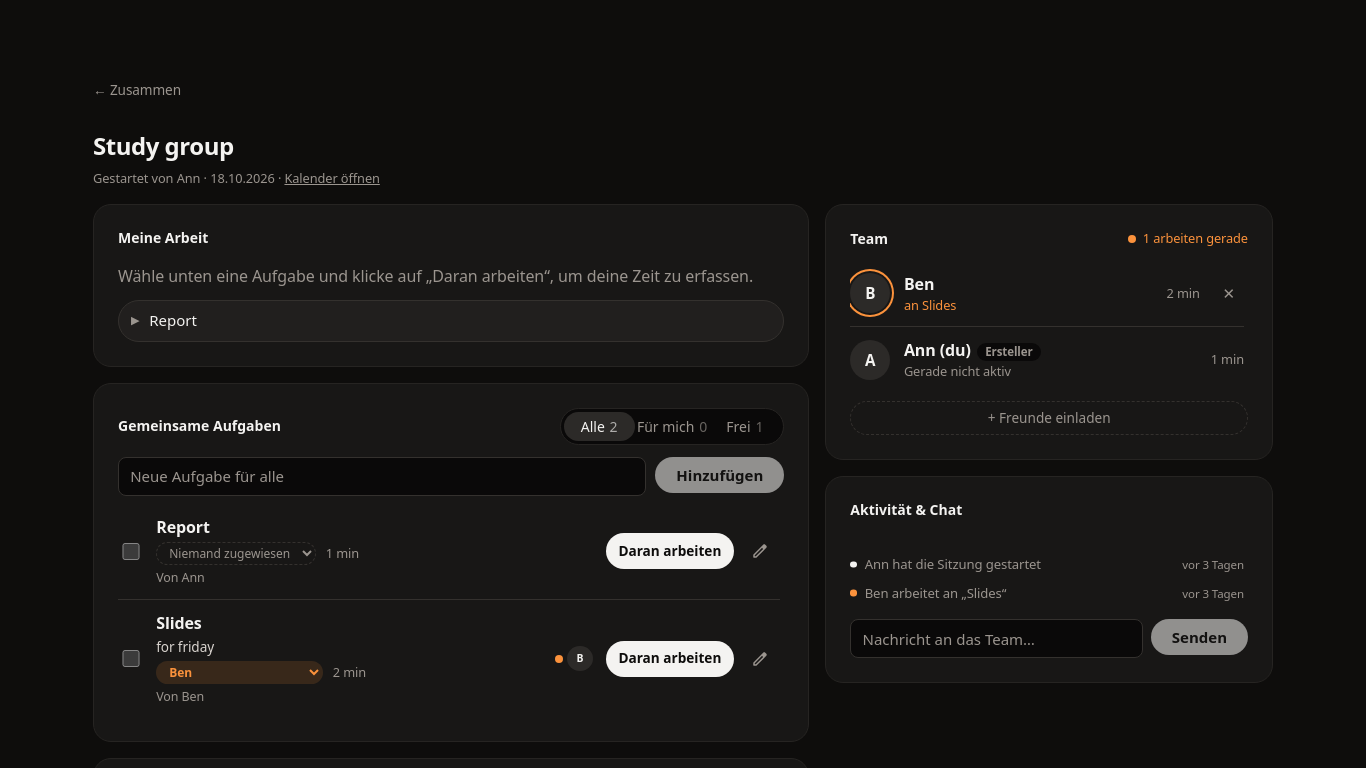
Test: Shared session page › edits a task's details; the day and everything else is optional, personal options are left out
The width and height of the screenshot is (1366, 768).
Click the button named "Bearbeiten: Report".
click(760, 551)  # box left=740, top=538, right=780, bottom=564
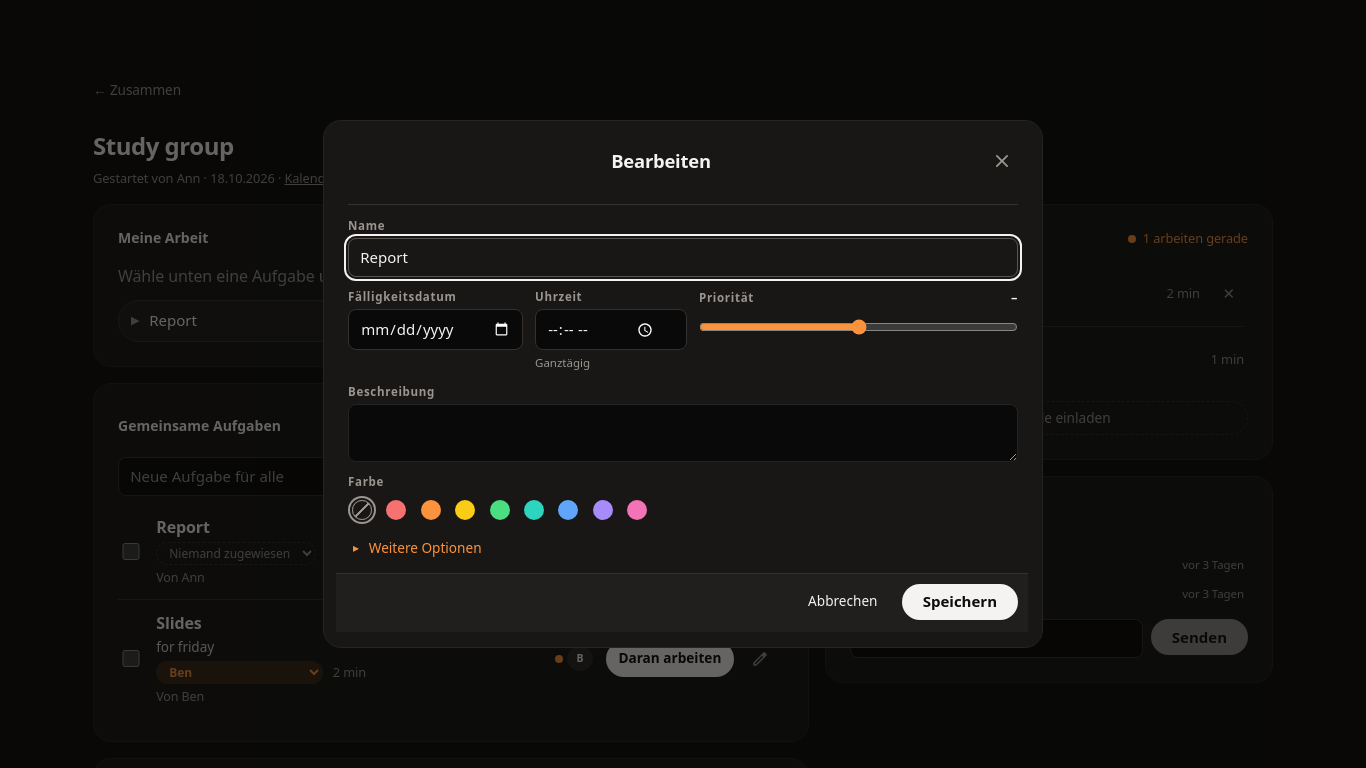
Note: no day is fine for a session task
Click the button "Speichern".
click(960, 602)  # box left=902, top=584, right=1018, bottom=620
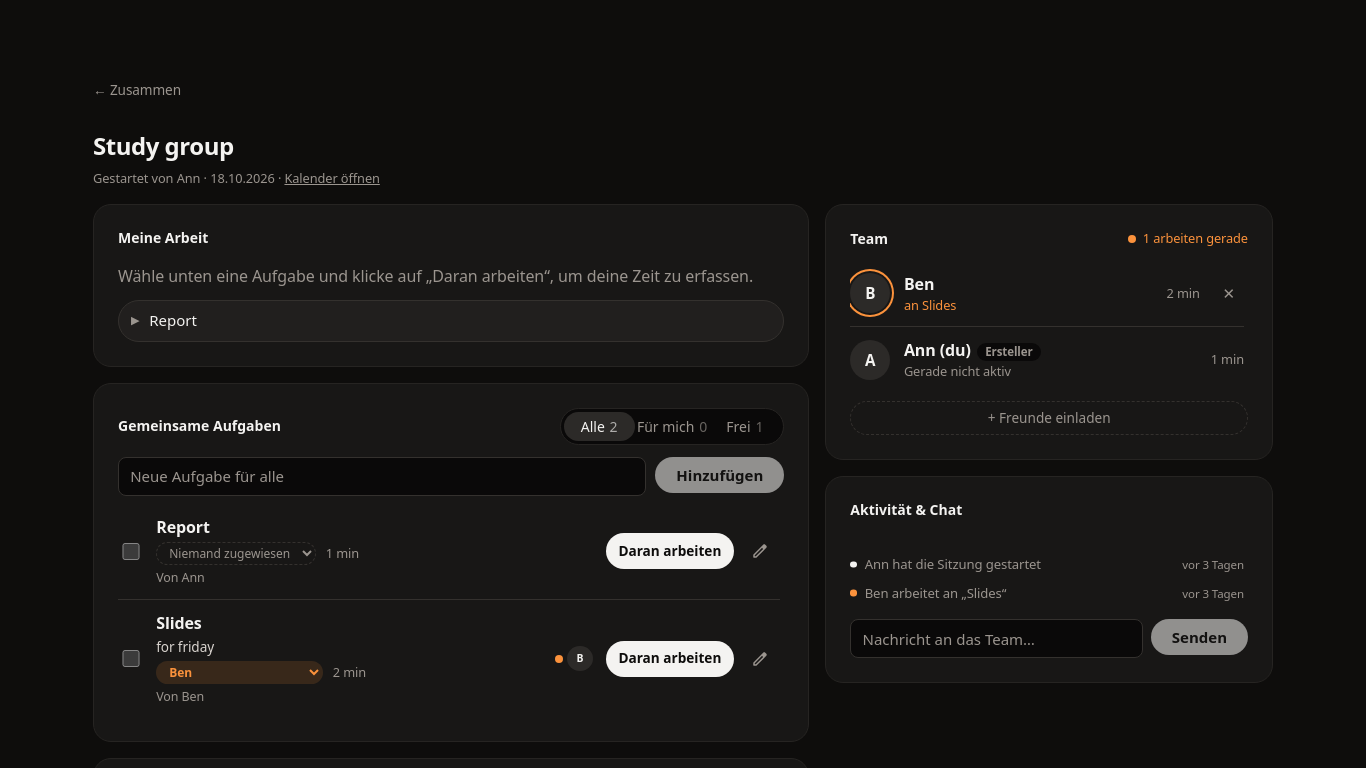
Check: the dialog is gone
Click the button named "Bearbeiten: Report".
click(760, 551)  # box left=740, top=538, right=780, bottom=564
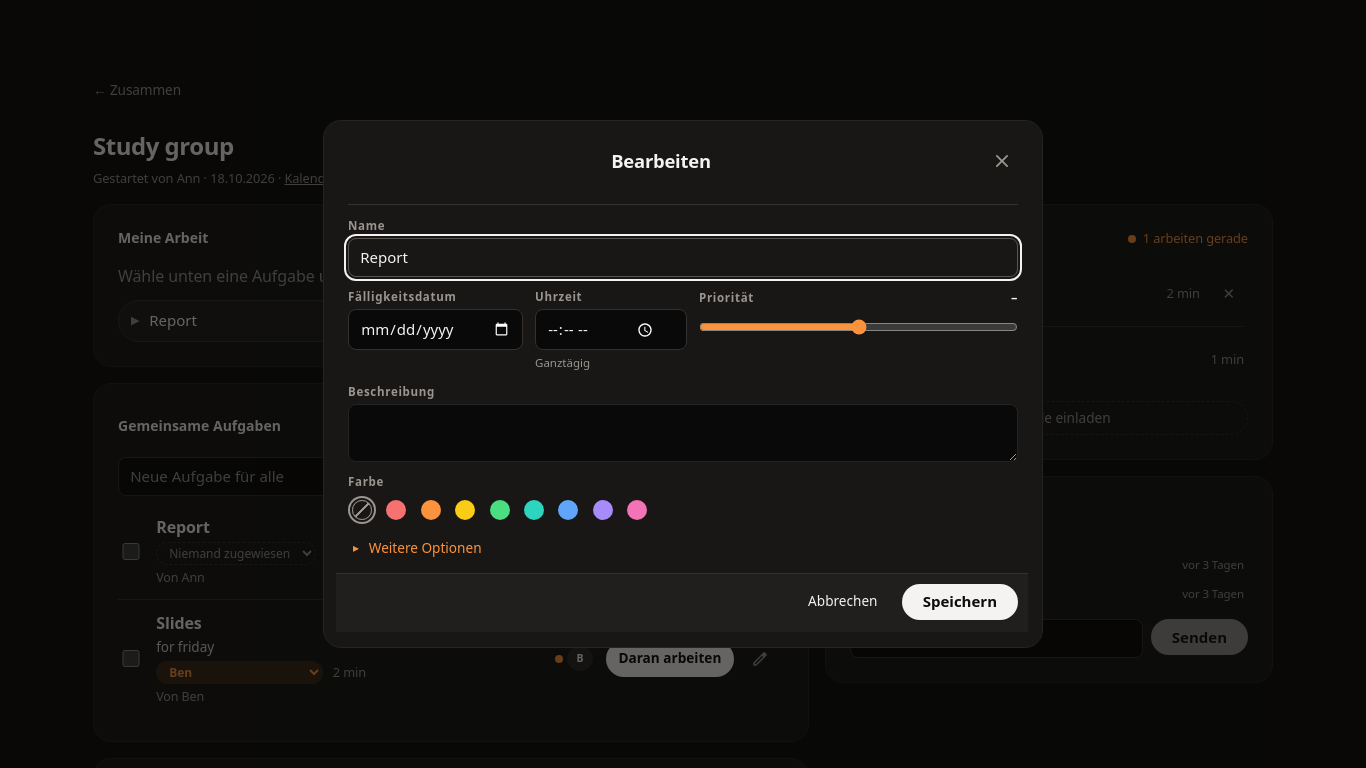
Type "2026-10-25" into the date field labelled "Fälligkeitsdatum".
click(436, 330); type("2026-10-25")  # box left=348, top=309, right=523, bottom=350
Click the button "▸ Weitere Optionen".
click(419, 548)  # box left=348, top=535, right=490, bottom=562
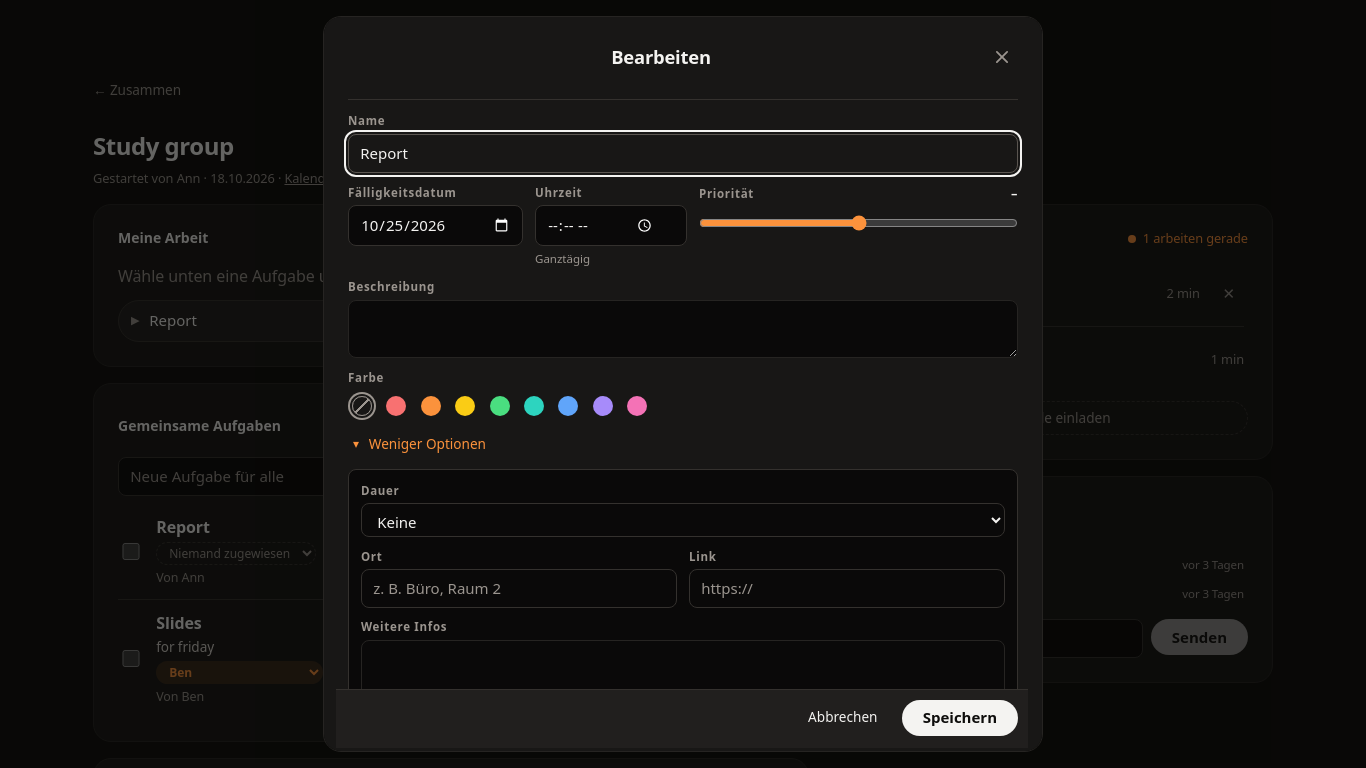
Type "Bib" into the field labelled "Ort".
click(519, 588); type("Bib")  # box left=361, top=569, right=677, bottom=608
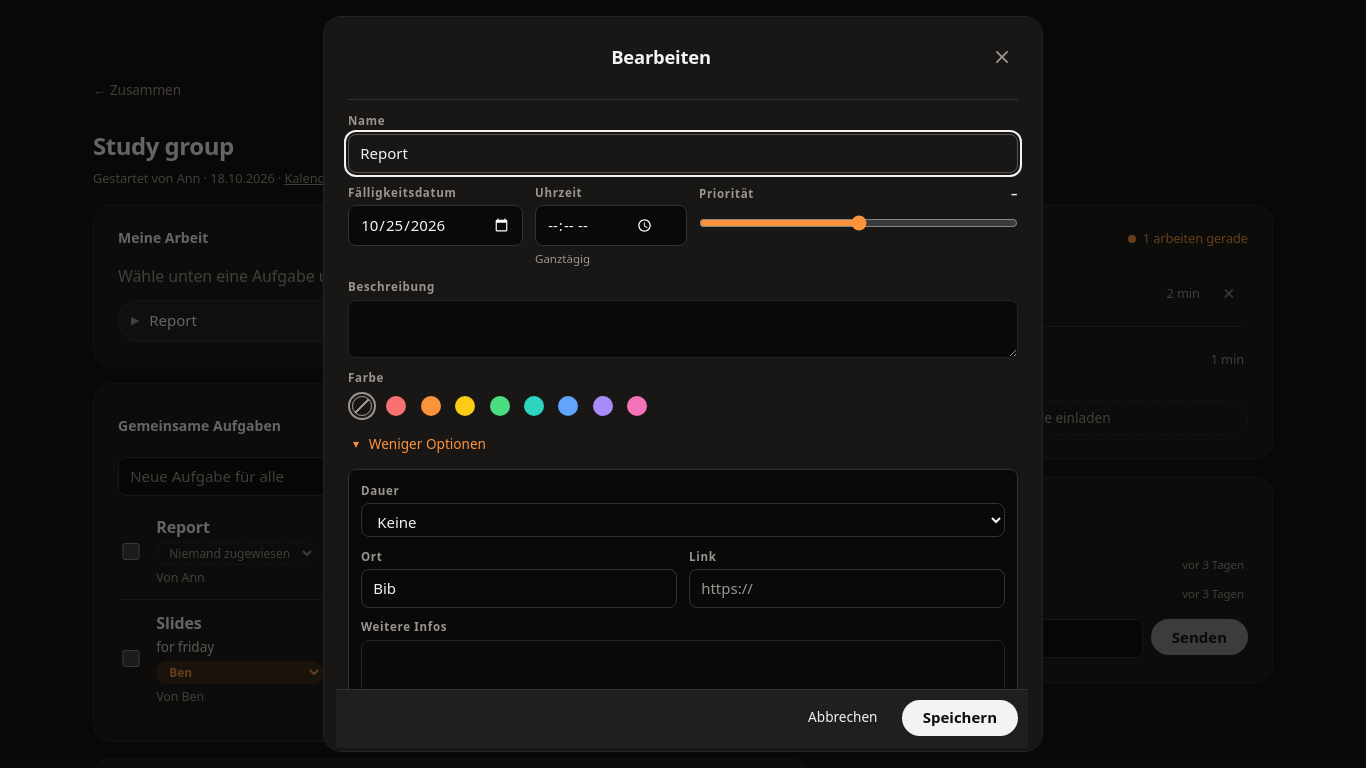
Click the button "Speichern".
click(960, 717)  # box left=902, top=699, right=1018, bottom=735
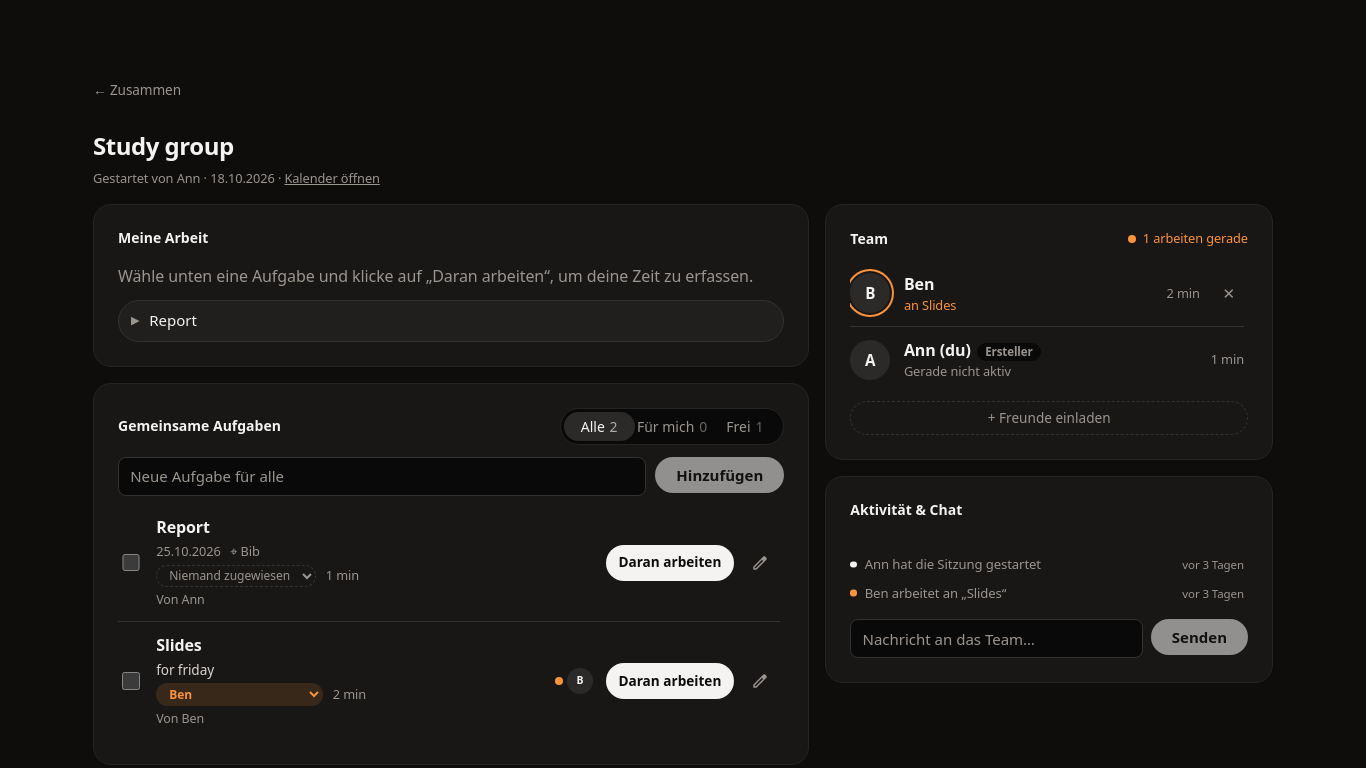
Check: the text "Bib" is shown, box left=230, top=542, right=260, bottom=562
